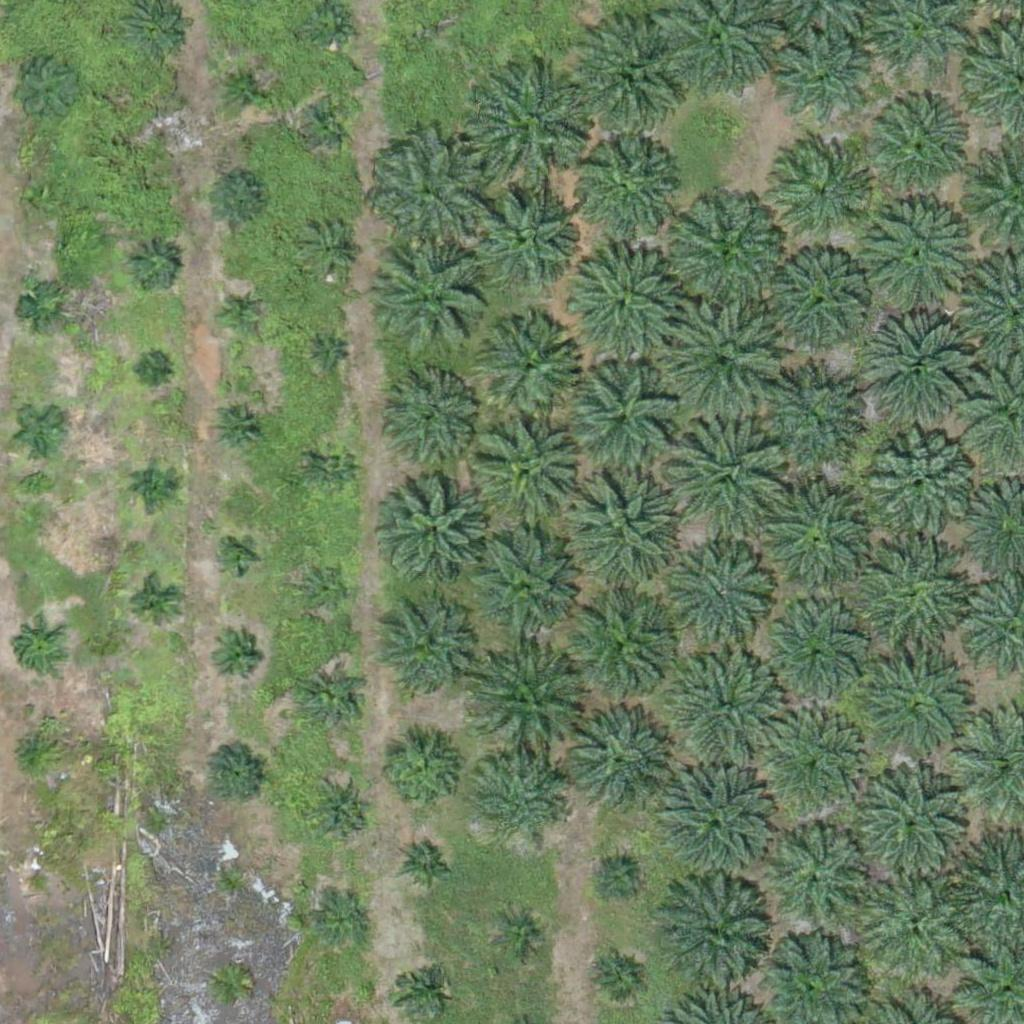Kelapa_Sawit: (471, 63, 596, 189), (661, 296, 786, 422), (663, 186, 788, 312), (849, 537, 974, 663), (859, 647, 984, 773), (558, 464, 683, 590), (665, 412, 790, 538), (844, 755, 969, 881), (573, 17, 686, 131), (673, 649, 786, 763), (857, 193, 970, 306), (563, 244, 676, 357), (562, 361, 675, 474), (559, 705, 672, 818), (751, 705, 864, 818), (860, 866, 973, 979), (858, 315, 970, 429), (565, 593, 677, 707), (473, 649, 585, 763), (469, 533, 581, 647), (472, 416, 584, 530), (372, 136, 484, 249), (381, 242, 493, 355), (866, 428, 978, 541), (761, 482, 873, 595), (661, 771, 773, 884), (661, 883, 773, 996), (765, 817, 877, 930), (865, 95, 965, 196), (771, 27, 871, 128), (474, 186, 574, 287), (480, 314, 580, 415), (764, 610, 864, 711), (676, 550, 776, 651), (769, 142, 869, 242), (767, 251, 867, 351), (752, 374, 852, 474), (573, 135, 673, 235), (385, 480, 485, 580), (373, 606, 473, 706), (375, 729, 462, 817), (390, 376, 477, 464), (475, 756, 562, 844), (7, 51, 82, 126), (310, 781, 373, 844), (205, 740, 268, 803), (205, 168, 268, 231), (304, 671, 366, 734), (398, 833, 460, 896), (127, 577, 177, 628), (211, 631, 261, 682), (304, 225, 354, 276), (127, 238, 177, 289), (220, 60, 270, 111), (7, 725, 57, 776), (317, 900, 367, 950), (393, 964, 443, 1014), (309, 443, 359, 493), (129, 460, 179, 510), (17, 405, 67, 455), (12, 623, 62, 673), (19, 285, 69, 335), (496, 911, 546, 961), (304, 98, 354, 148), (215, 288, 265, 338), (298, 562, 348, 612), (214, 402, 264, 452), (593, 852, 643, 902), (594, 955, 644, 1005), (27, 181, 65, 219), (218, 537, 256, 575), (150, 114, 175, 139), (316, 343, 341, 368), (139, 357, 164, 382), (22, 868, 47, 893)
